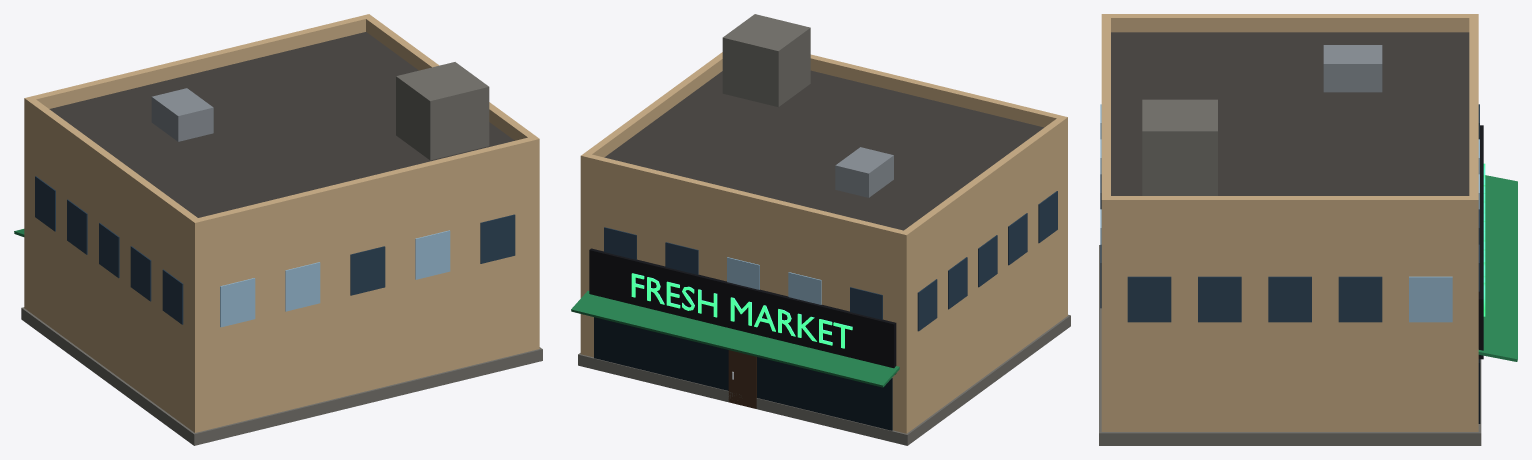
The model's file is bld_shop_a.glb.
3 renders of one model, left to right at view 1: azimuth 30°, elevation 25°; view 2: azimuth 150°, elevation 25°; view 3: azimuth 270°, elevation 25°, orthographic. The views are drawn at different scales.
Visible parts, largest first — view 1: bld_shop_a__mesh; view 2: bld_shop_a__mesh, bld_shop_a__signboard, bld_shop_a__sign; view 3: bld_shop_a__mesh, bld_shop_a__signboard, bld_shop_a__sign.
Part boxes in pixels (box(x1,y1,x2,y2)): bld_shop_a__mesh: box(14, 14, 542, 445); bld_shop_a__mesh: box(571, 14, 1070, 445); bld_shop_a__signboard: box(589, 248, 896, 374); bld_shop_a__sign: box(631, 273, 852, 348); bld_shop_a__mesh: box(1099, 14, 1517, 445); bld_shop_a__signboard: box(1478, 125, 1483, 359); bld_shop_a__sign: box(1483, 163, 1485, 316).
Size of the model in its own units: 14.16 by 10.4 by 13.33.
